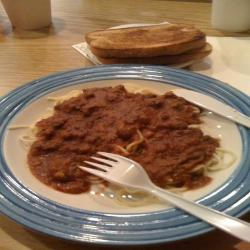bolonese_pasta: (22, 80, 239, 211)
bread: (84, 20, 213, 71)
